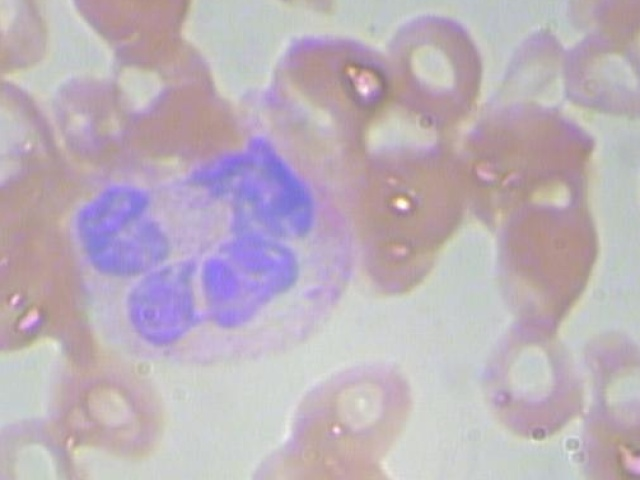RBC: (455, 323, 592, 445), (474, 203, 611, 325), (282, 355, 419, 477), (455, 90, 604, 202), (253, 25, 400, 128), (353, 127, 474, 251), (375, 5, 494, 128), (46, 342, 165, 457), (99, 23, 223, 131), (0, 74, 78, 196), (557, 17, 640, 114), (579, 319, 640, 448), (77, 0, 198, 52), (0, 415, 95, 480), (569, 408, 640, 480), (214, 0, 361, 18), (0, 0, 12, 86)
WBC: (65, 130, 361, 374)
